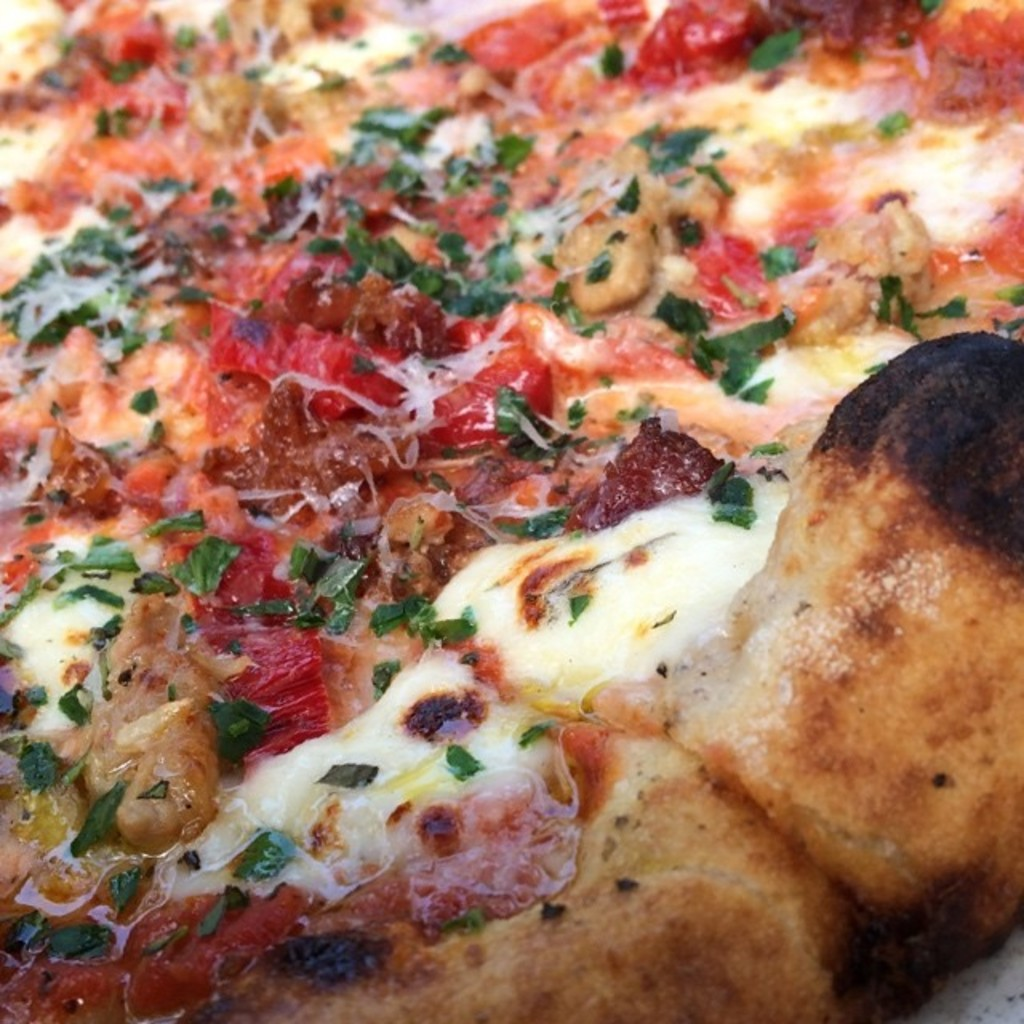Pizza: (6, 6, 1012, 1024)
